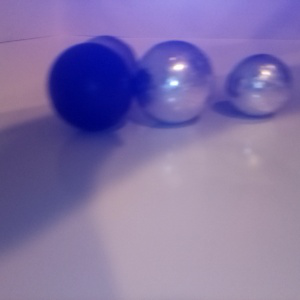alive_ball: (135, 39, 217, 123), (71, 34, 138, 108), (224, 53, 294, 116)
dead_ball: (47, 42, 133, 131)
